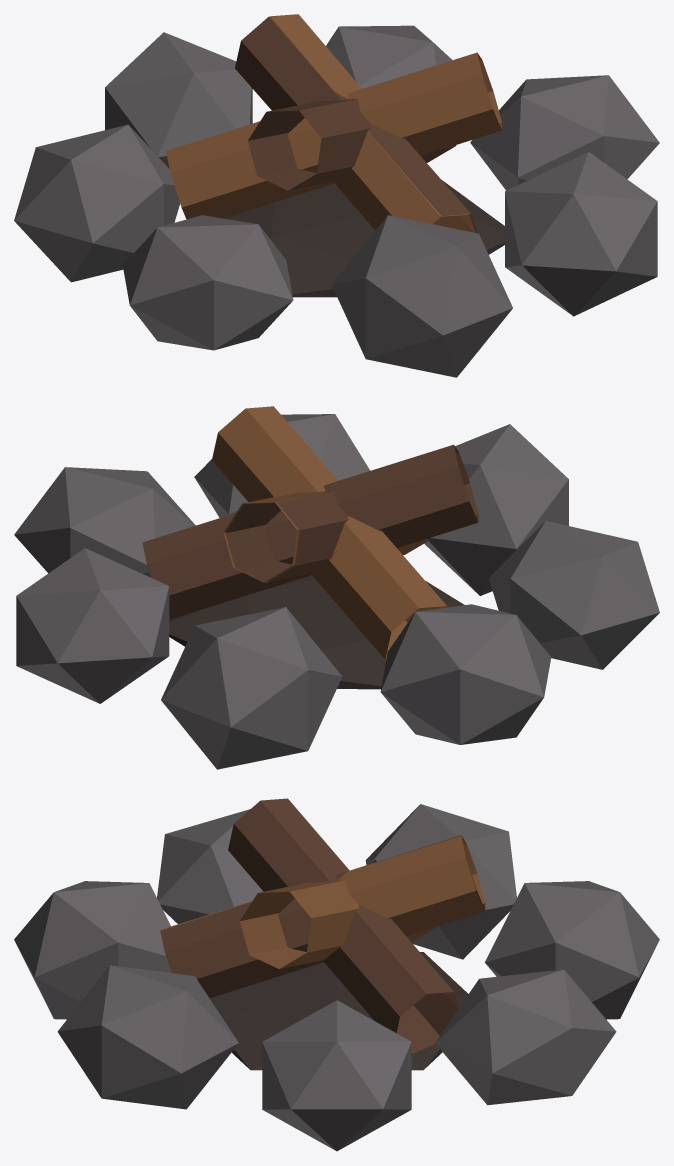
3 views of the same model, one above another, from view 1: azimuth 30°, elevation 25°; view 2: azimuth 150°, elevation 25°; view 3: azimuth 270°, elevation 25° (orthographic). The views are drawn at different scales.
Parts seen in each view (by area): view 1: C12_低垒椭圆火塘; view 2: C12_低垒椭圆火塘; view 3: C12_低垒椭圆火塘.
Part boxes in pixels (x1,y1,x2,y2): C12_低垒椭圆火塘: [14, 14, 659, 377]; C12_低垒椭圆火塘: [14, 406, 659, 769]; C12_低垒椭圆火塘: [14, 798, 659, 1151].
Bounding box in the file's own units: 1.15 × 0.3913 × 1.18.
